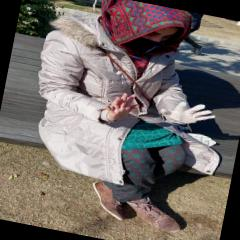gloved: (156, 96, 216, 132)
not-gloved: (103, 90, 142, 125)
